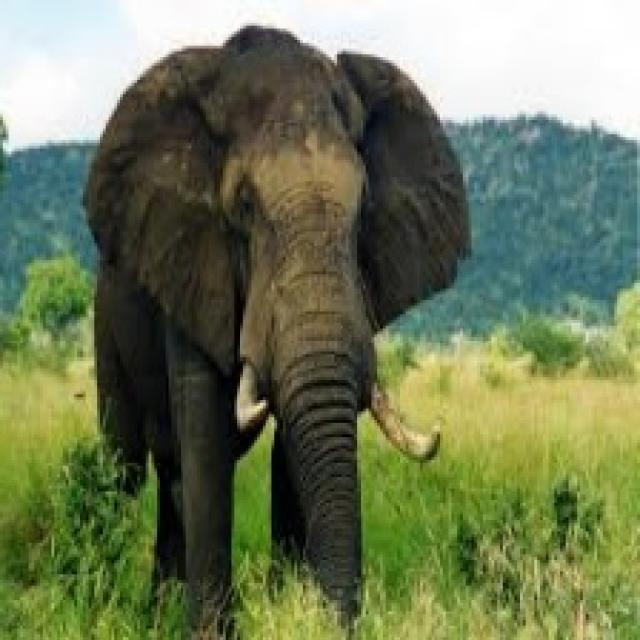animal: (52, 11, 545, 509)
